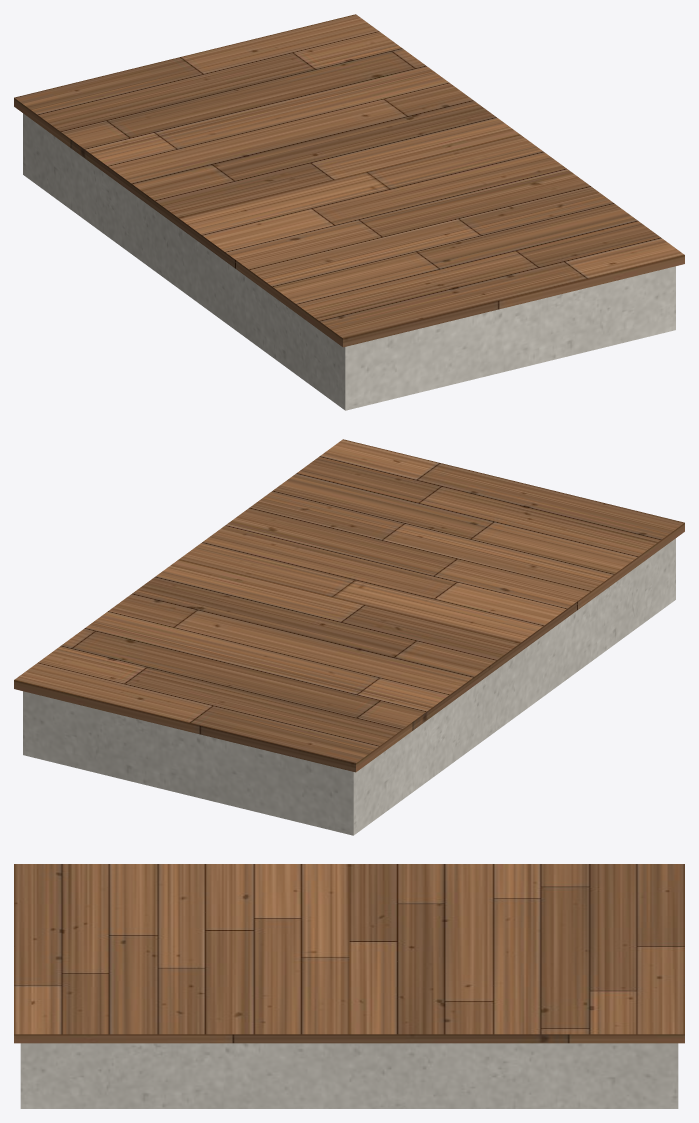
File: floor_floor_u_h3.glb
The picture shows the model from 3 angles, top to bottom: view 1: azimuth 30°, elevation 25°; view 2: azimuth 150°, elevation 25°; view 3: azimuth 270°, elevation 25°; orthographic projection.
Visible parts, largest first — view 1: floor_floor_u_h3_floor, floor_floor_u_h3_plaster; view 2: floor_floor_u_h3_floor, floor_floor_u_h3_plaster; view 3: floor_floor_u_h3_floor, floor_floor_u_h3_plaster.
Part boxes in pixels (x1=…): floor_floor_u_h3_floor: x1=14, y1=14, x2=684, y2=347; floor_floor_u_h3_plaster: x1=23, y1=113, x2=675, y2=410; floor_floor_u_h3_floor: x1=14, y1=439, x2=684, y2=772; floor_floor_u_h3_plaster: x1=23, y1=538, x2=675, y2=835; floor_floor_u_h3_floor: x1=14, y1=864, x2=684, y2=1043; floor_floor_u_h3_plaster: x1=20, y1=1043, x2=678, y2=1108.
Bounding box in the file's own units: 1.2 × 0.255 × 2.
Materials: 2 (2 with a texture image).
